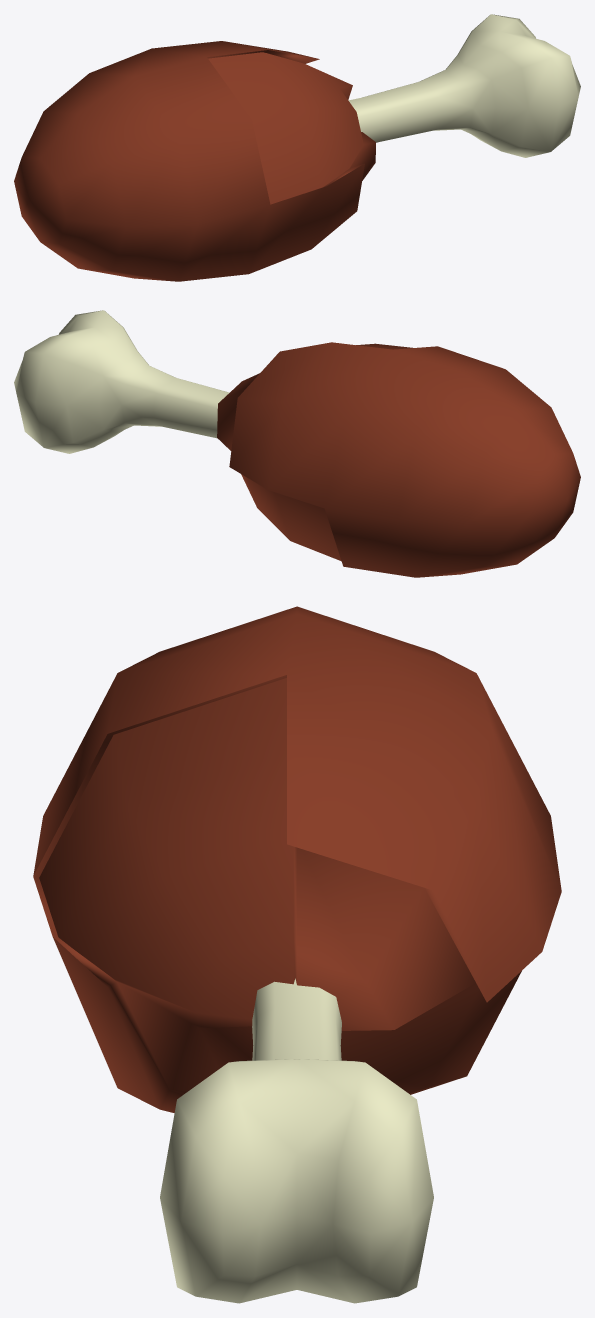
File: CookedGiantDrumstck.fbx
3 views of the same model, one above another, from view 1: azimuth 30°, elevation 25°; view 2: azimuth 150°, elevation 25°; view 3: azimuth 270°, elevation 25° (orthographic). The views are drawn at different scales.
Visible parts, largest first — view 1: Sphere, Bone; view 2: Sphere, Bone; view 3: Sphere, Bone.
Boxes of the visible parts, x1,y1,x2,y2 form: Sphere: (14, 41, 375, 281); Bone: (348, 14, 580, 157); Sphere: (217, 342, 580, 577); Bone: (14, 310, 229, 453); Sphere: (33, 606, 561, 1113); Bone: (160, 978, 433, 1303).
Bounding box in the file's own units: 2.34 × 0.8785 × 1.
